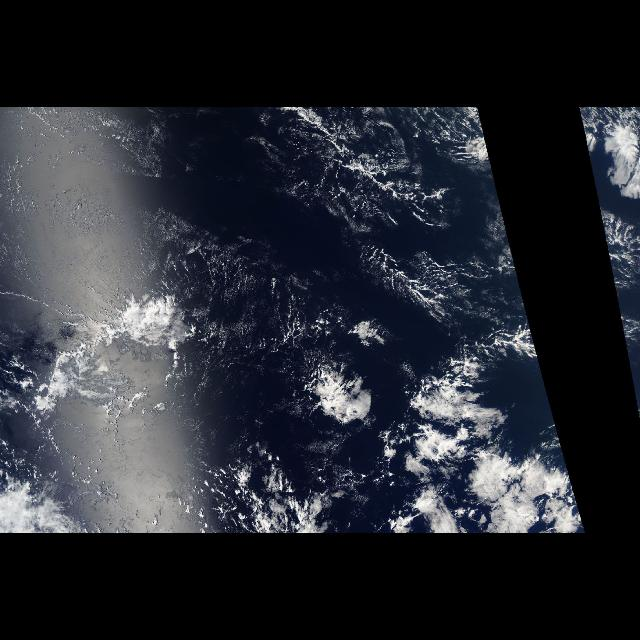Fish: (28, 286, 206, 426), (253, 109, 452, 231)
Flower: (5, 295, 588, 531), (614, 295, 638, 413)
